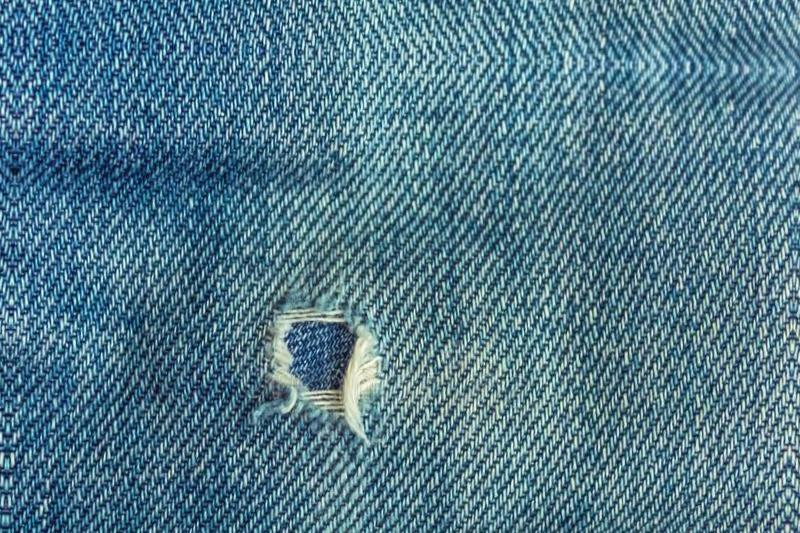hole: (258, 302, 379, 417)
